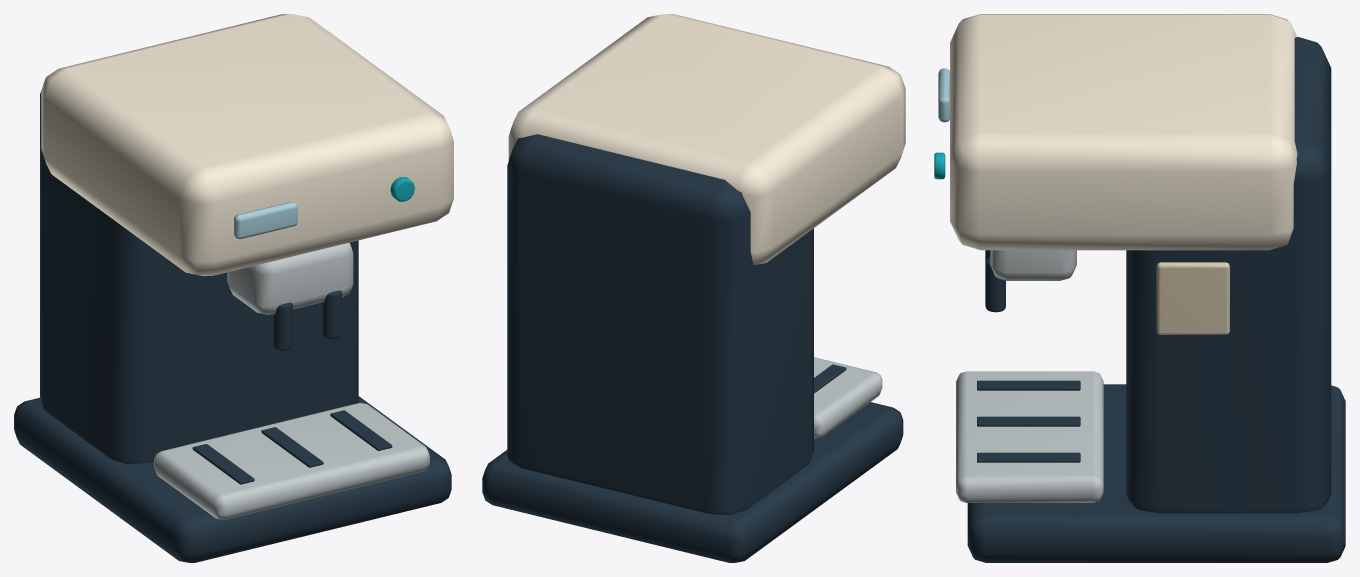
Rendered from Lounge_Coffee_Machine.glb.
The picture shows the model from 3 angles, left to right: view 1: azimuth 30°, elevation 25°; view 2: azimuth 150°, elevation 25°; view 3: azimuth 270°, elevation 25°; orthographic projection. The views are drawn at different scales.
Visible parts, largest first — view 1: Lounge_Coffee_Machine__Visual; view 2: Lounge_Coffee_Machine__Visual; view 3: Lounge_Coffee_Machine__Visual.
Part boxes in pixels (<box>): Lounge_Coffee_Machine__Visual: <box>14,14,453,562</box>; Lounge_Coffee_Machine__Visual: <box>482,14,905,562</box>; Lounge_Coffee_Machine__Visual: <box>934,14,1345,562</box>.
Size of the model in its own units: 0.28 by 0.384 by 0.3375.
1 material, 1 textured.
